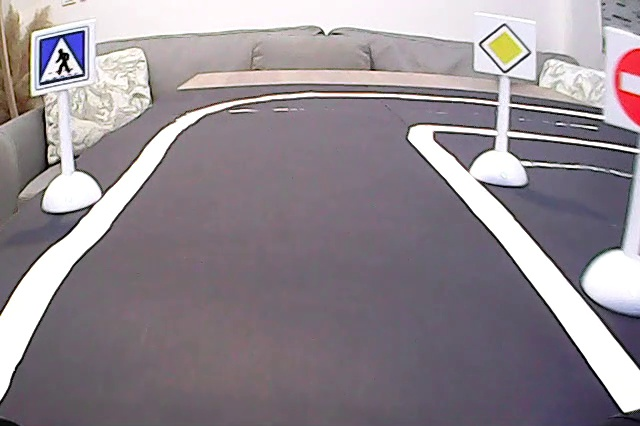pedestrian crossing: (36, 32, 86, 87)
